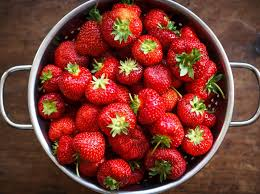Fresa: (99, 7, 144, 51), (166, 39, 208, 83), (142, 145, 188, 183), (97, 100, 137, 138), (57, 61, 93, 102), (74, 18, 110, 59), (149, 111, 185, 151), (93, 157, 134, 191), (134, 87, 165, 127), (71, 129, 106, 164), (176, 92, 207, 129), (132, 32, 164, 67), (85, 74, 119, 104), (184, 123, 213, 158), (142, 62, 171, 95), (37, 91, 67, 122), (39, 63, 65, 93)
